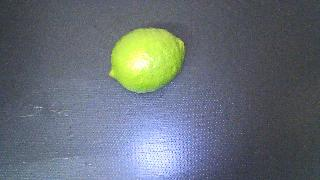EXPORTACION: (109, 28, 185, 93)
